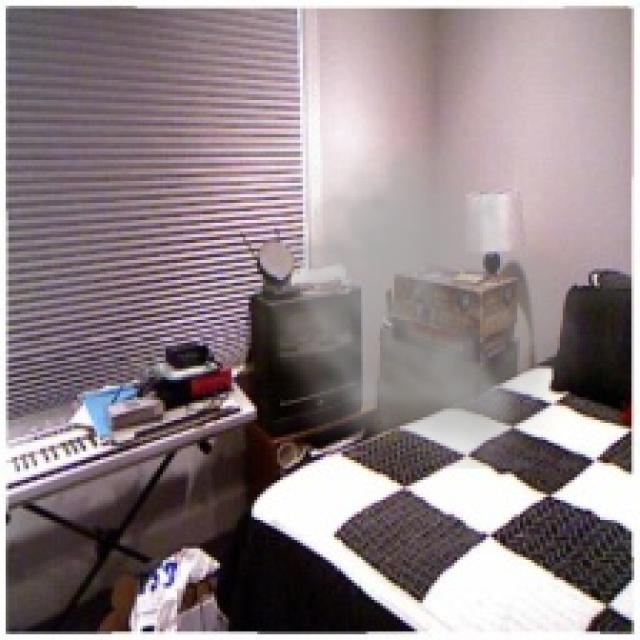smoke: (237, 106, 600, 468)
